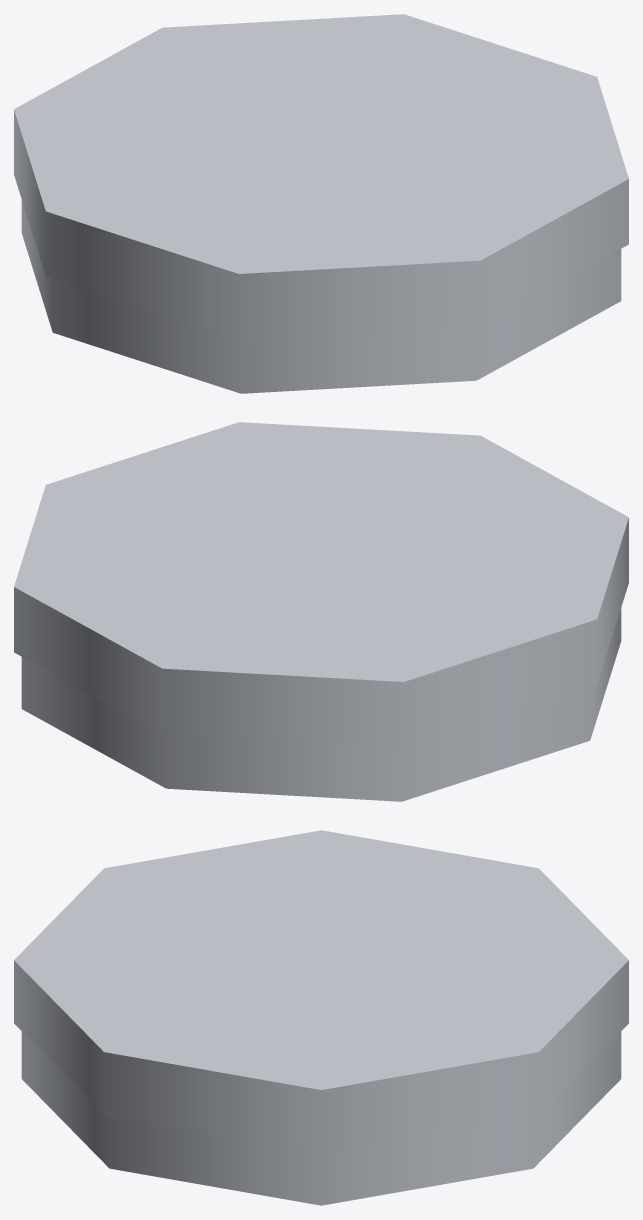
The model's file is dish_petridish.glb.
The picture shows the model from 3 angles, top to bottom: view 1: azimuth 30°, elevation 25°; view 2: azimuth 150°, elevation 25°; view 3: azimuth 270°, elevation 25°; orthographic projection. The views are drawn at different scales.
Parts seen in each view (by area): view 1: dish_petridish_lid, dish_petridish; view 2: dish_petridish_lid, dish_petridish; view 3: dish_petridish_lid, dish_petridish.
Part boxes in pixels (x1,y1,x2,y2): dish_petridish_lid: [14, 14, 628, 339]; dish_petridish: [21, 200, 621, 393]; dish_petridish_lid: [14, 422, 628, 747]; dish_petridish: [21, 608, 621, 801]; dish_petridish_lid: [14, 830, 628, 1153]; dish_petridish: [21, 1031, 621, 1205].
Size of the model in its own units: 12.15 by 2.59 by 12.15.
Materials: 1 (1 with a texture image).
